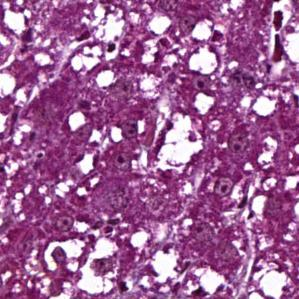ballooning: (153, 109, 206, 174)
